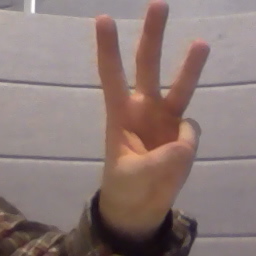W: (85, 1, 213, 213)
